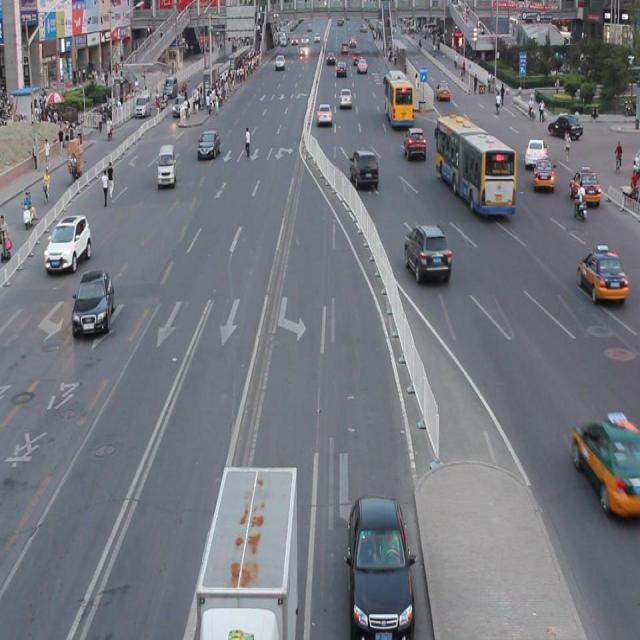bus: (197, 462, 298, 640)
car: (348, 493, 413, 640), (570, 414, 640, 515), (72, 268, 116, 340), (44, 214, 92, 272), (404, 222, 450, 282), (577, 248, 626, 300), (349, 149, 378, 190), (570, 167, 600, 205)
truck: (157, 145, 176, 186)
van: (436, 114, 516, 215)
